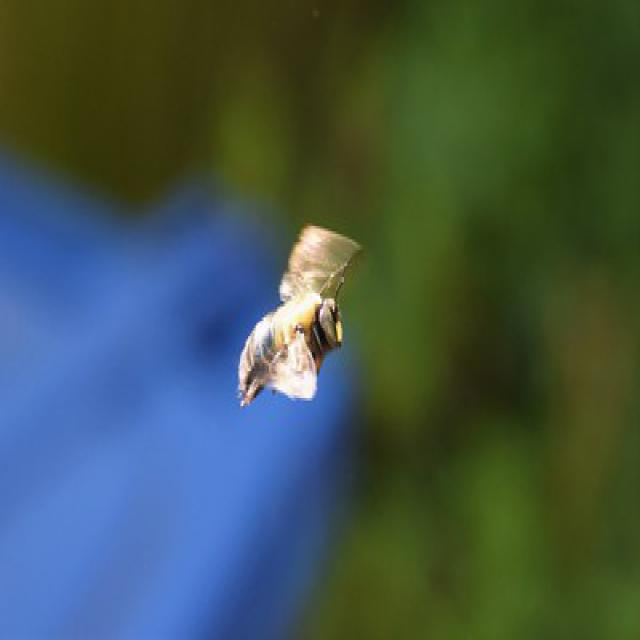Abeille: (233, 208, 365, 412)
